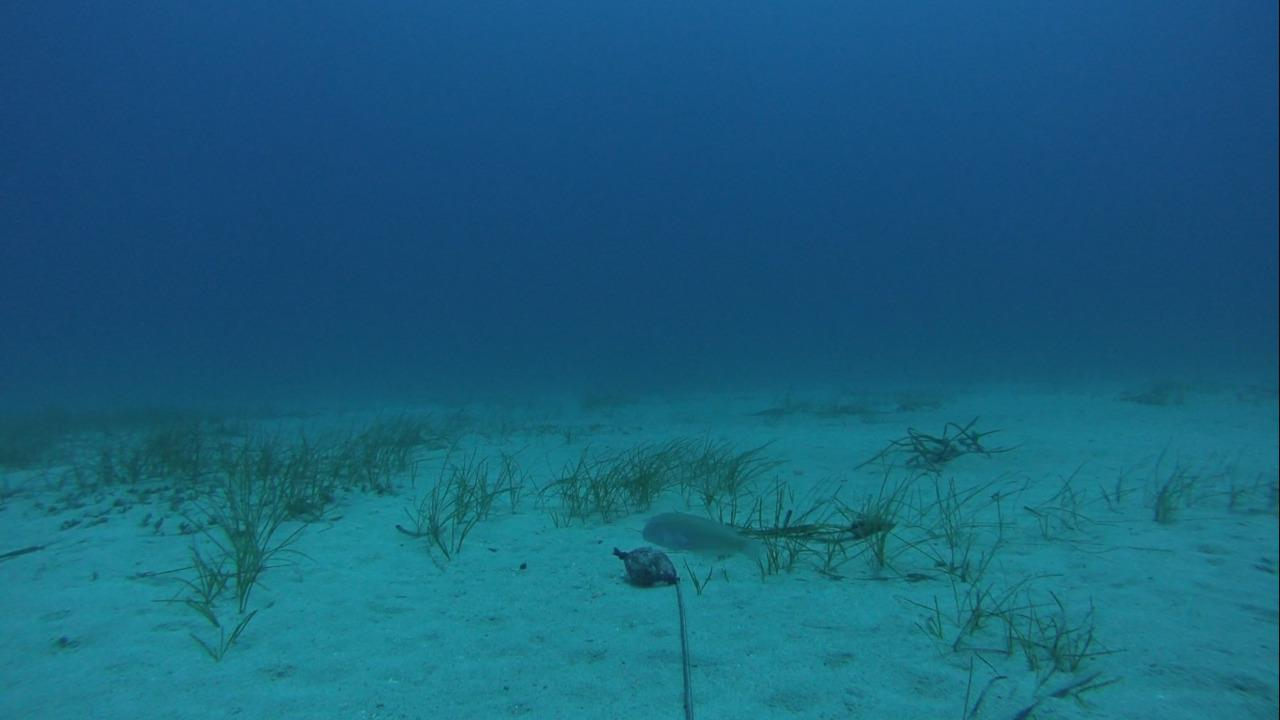raor: (639, 508, 786, 562)
